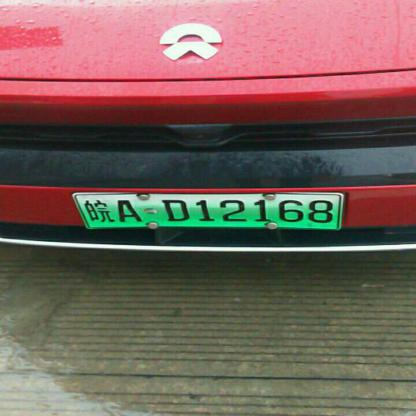lp: (76, 194, 340, 228)
